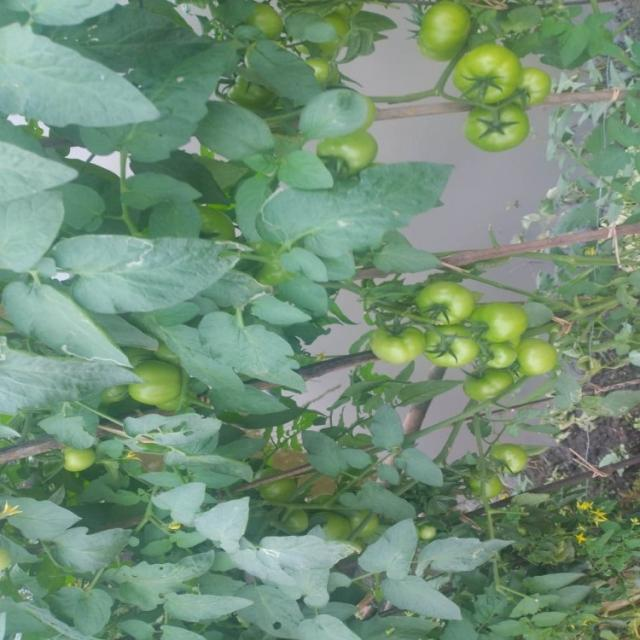tomato: (464, 97, 529, 152), (489, 437, 550, 495), (421, 319, 482, 376), (457, 44, 519, 100), (313, 123, 385, 171), (409, 270, 466, 328), (127, 353, 183, 408), (424, 1, 474, 59), (368, 318, 425, 367), (469, 297, 531, 341), (465, 364, 516, 407), (189, 205, 241, 247), (515, 335, 558, 379), (255, 473, 302, 507), (314, 507, 355, 544), (517, 58, 547, 108), (469, 456, 501, 500), (347, 514, 385, 551), (284, 505, 324, 537), (305, 54, 340, 89), (476, 338, 512, 371), (61, 440, 94, 471), (247, 3, 271, 44)
